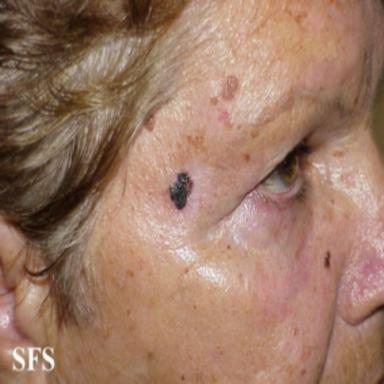Melanoma: (169, 173, 192, 209)
